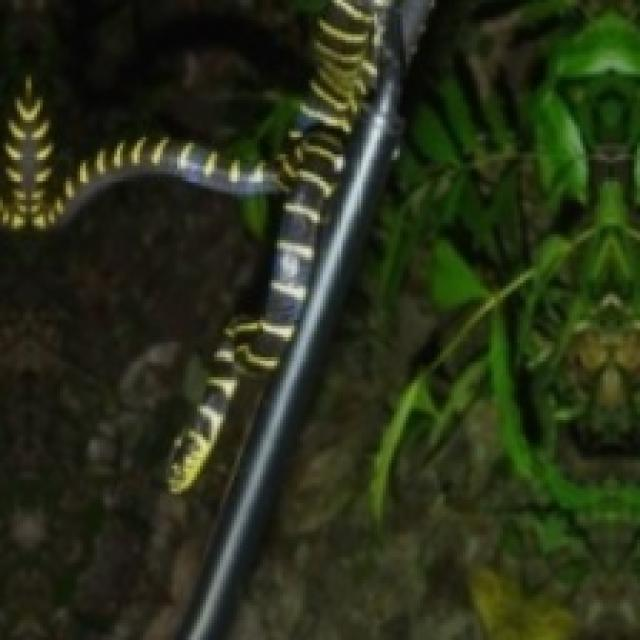mangrove cat snake: (0, 0, 391, 491)
